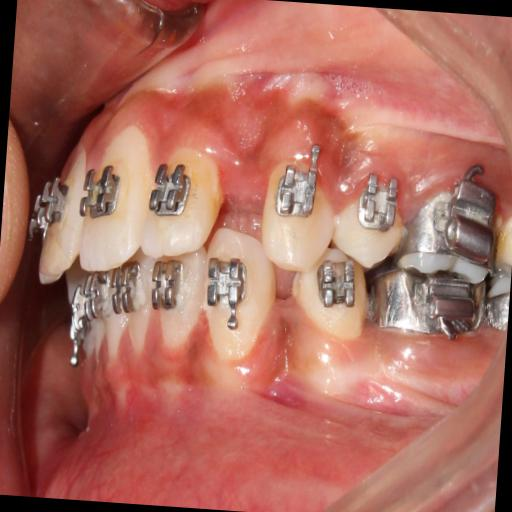correct_brace: (331, 166, 417, 274), (202, 250, 254, 342), (272, 142, 324, 222), (146, 158, 196, 223)
incorrect_brace: (136, 139, 228, 264), (354, 171, 404, 237)
